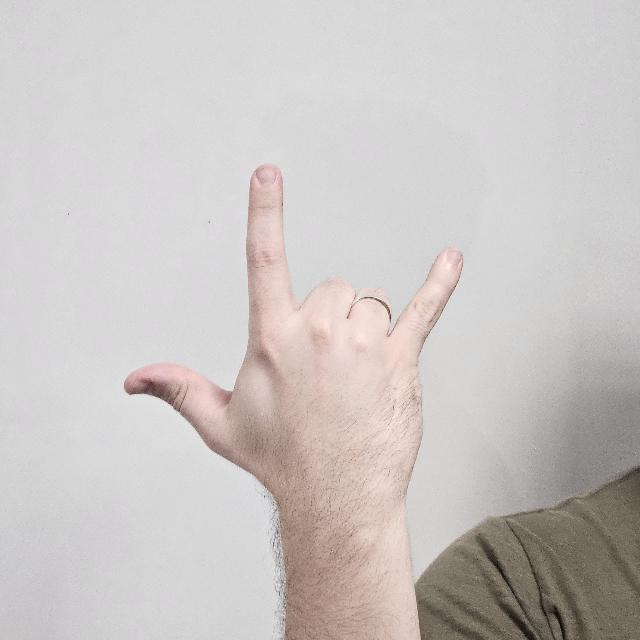Cima: (122, 165, 464, 550)
